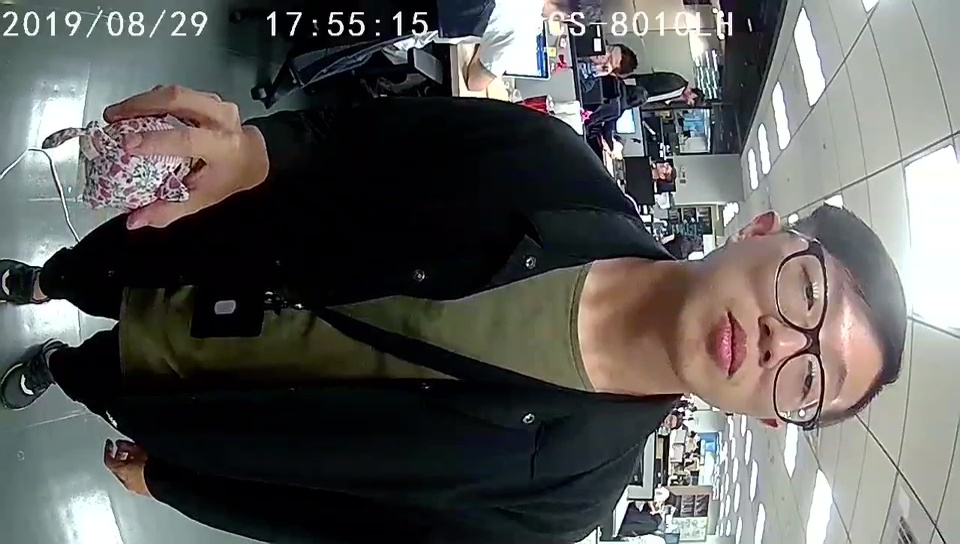pig: (80, 115, 196, 209)
